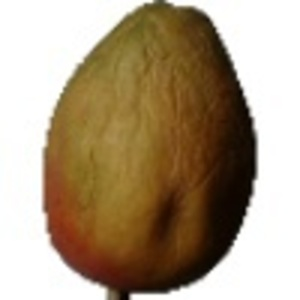mamão: (35, 1, 268, 296)
